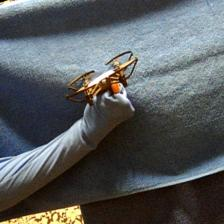drone: (66, 51, 140, 105)
